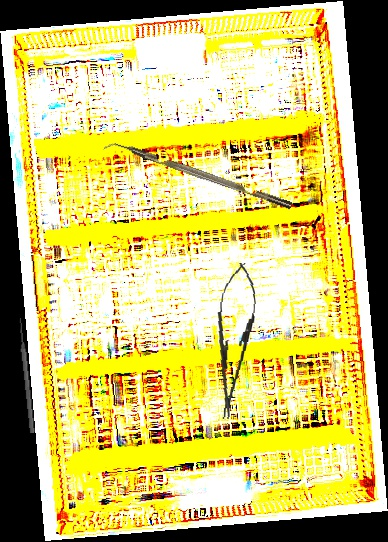Chopper: (102, 135, 293, 219)
Needle Holder: (206, 260, 261, 422)
Pusher: (17, 317, 36, 434)
